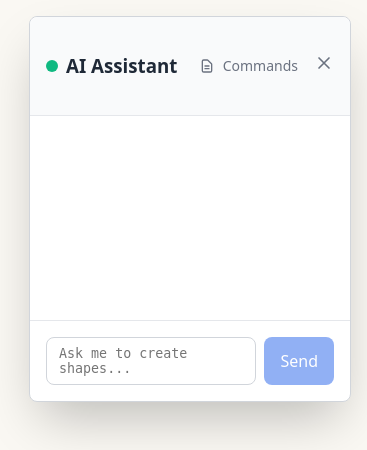
Test: ChatBox Component › send button is enabled when input has content
The image size is (367, 450).
Type "test message" into the text box with placeholder "Ask me to create shapes..." at (151, 361), box 46,337 -> 256,385
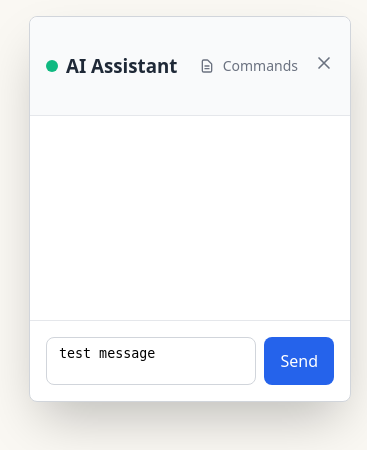
Expected: the button "Send" is enabled, 264,337 -> 334,385
